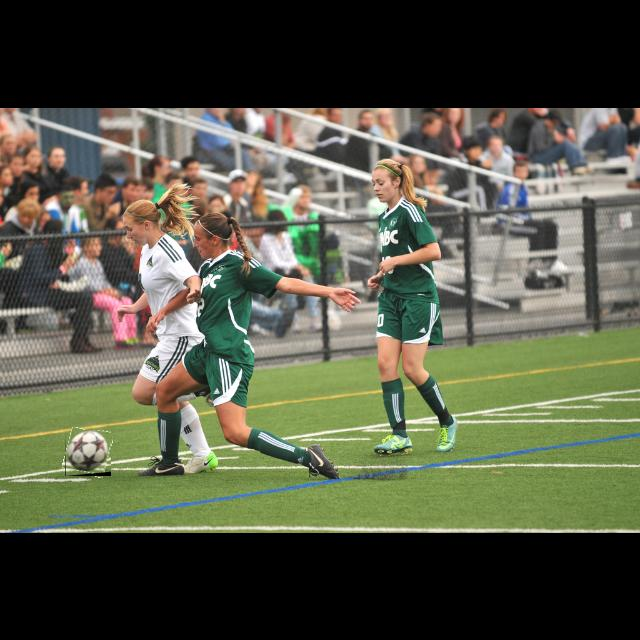Football: (65, 430, 111, 476)
